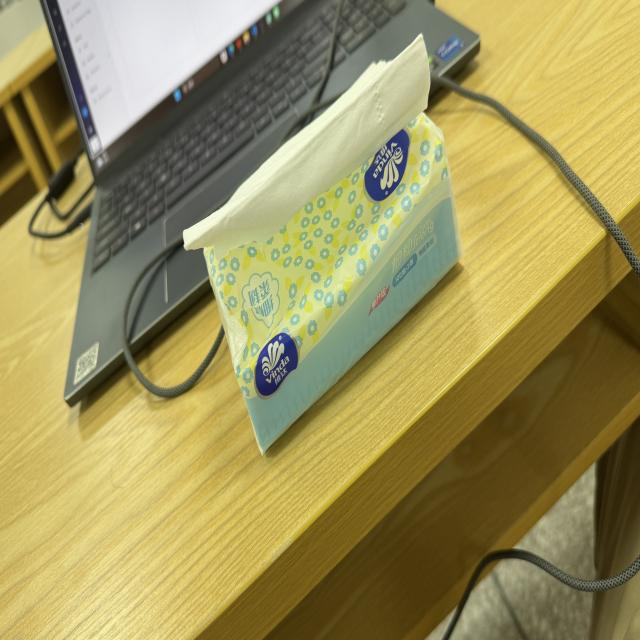tissue: (185, 37, 462, 452), (205, 114, 462, 451), (184, 35, 430, 254)
